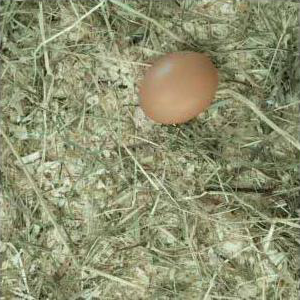egg: (139, 51, 218, 124)
